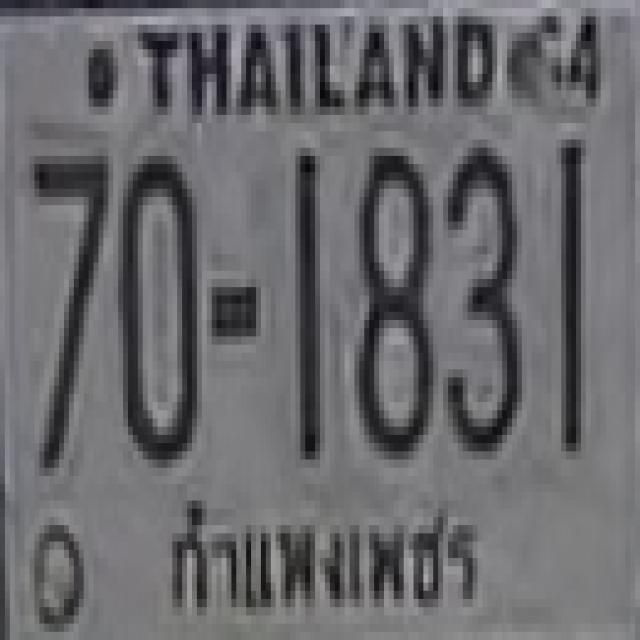0: (118, 148, 197, 460)
1: (556, 140, 581, 452), (293, 148, 317, 451)
3: (443, 140, 517, 452)
7: (32, 148, 106, 468)
8: (354, 144, 428, 456)
KPT: (153, 484, 494, 638)
